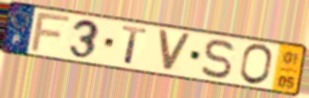3: (66, 17, 106, 61)
F: (28, 12, 74, 54)
O: (237, 42, 275, 87)
S: (199, 38, 237, 81)
T: (121, 24, 150, 67)
V: (156, 28, 194, 75)
